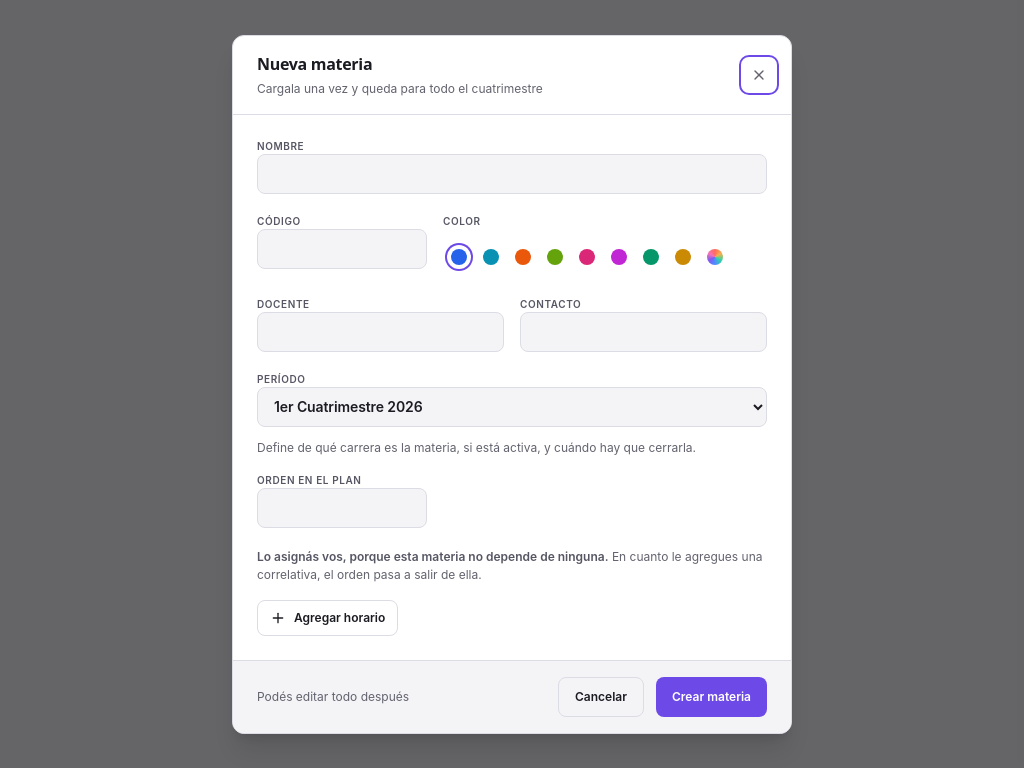
Test: NuevaMateriaModal › unsaved changes › asks before throwing away what was typed
Type "Algoritmos" into the field labelled "NOMBRE". click: (512,174)
box: [257,154,767,194]
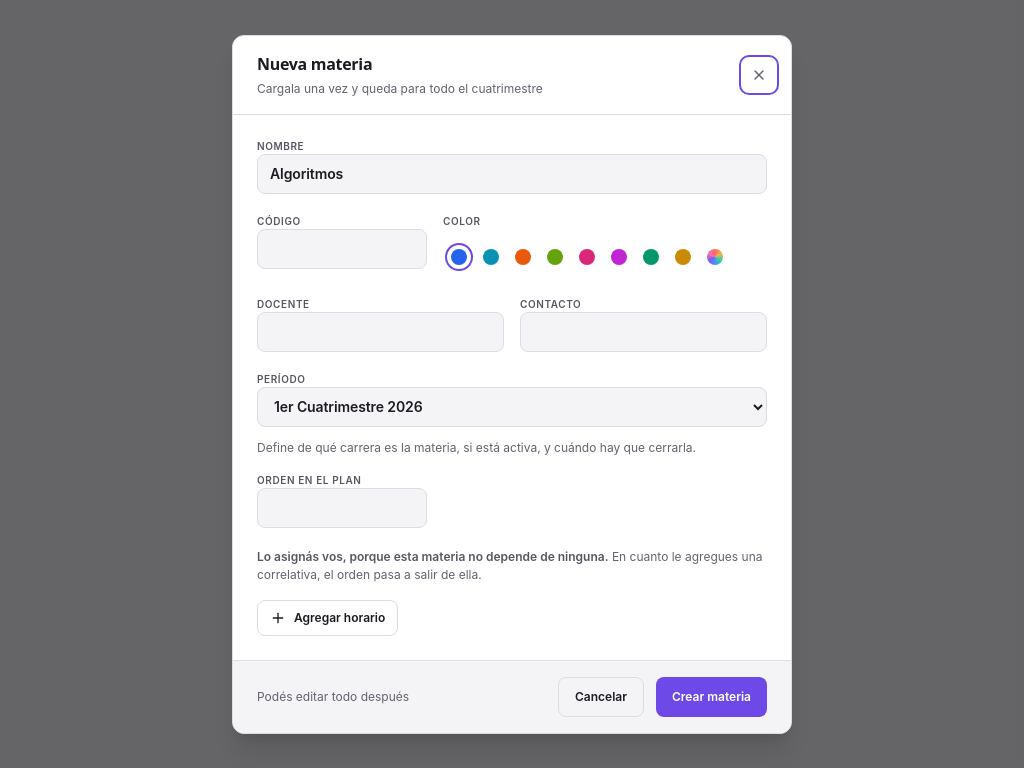
Click the button "Cancelar". click: (601,696)
box: [558,676,644,716]
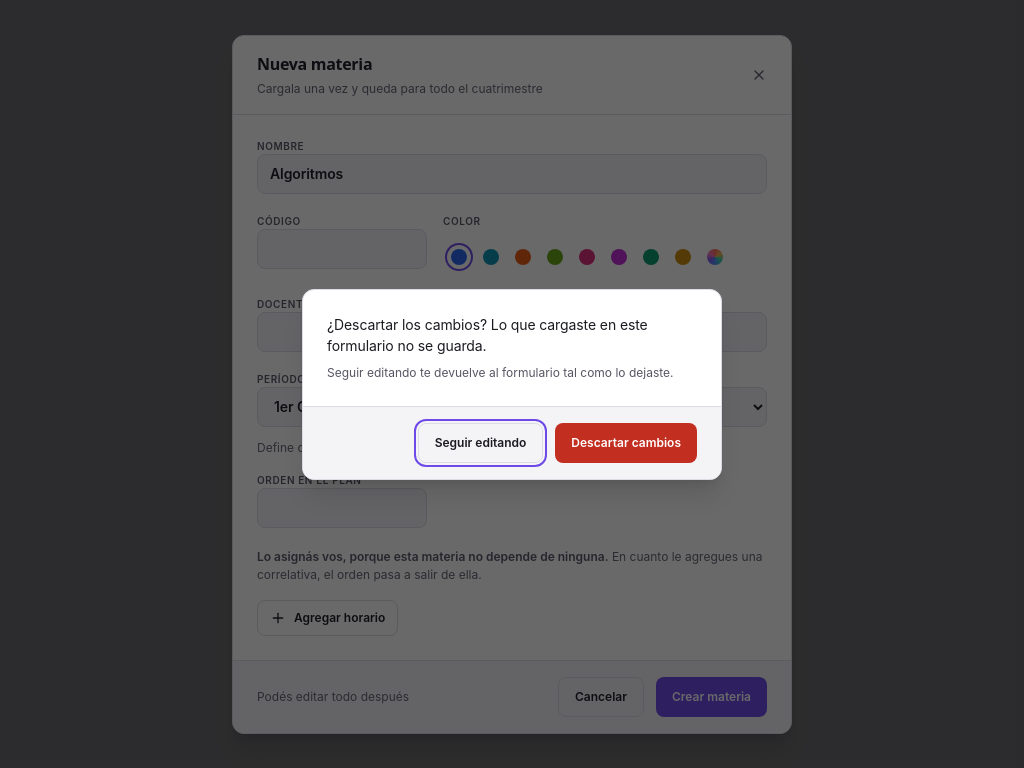
Expected: the dialog named "Descartar cambios" is shown, [302,288,722,480]
